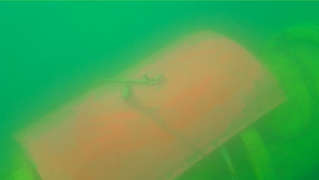leak: (11, 28, 287, 180)
pipe: (174, 21, 318, 180), (1, 153, 42, 180)
